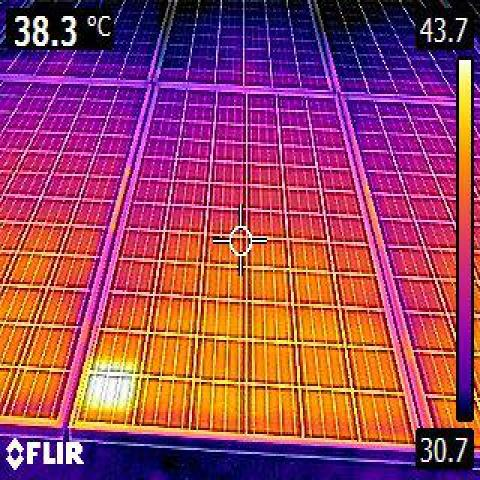fault: (91, 368, 134, 428)
